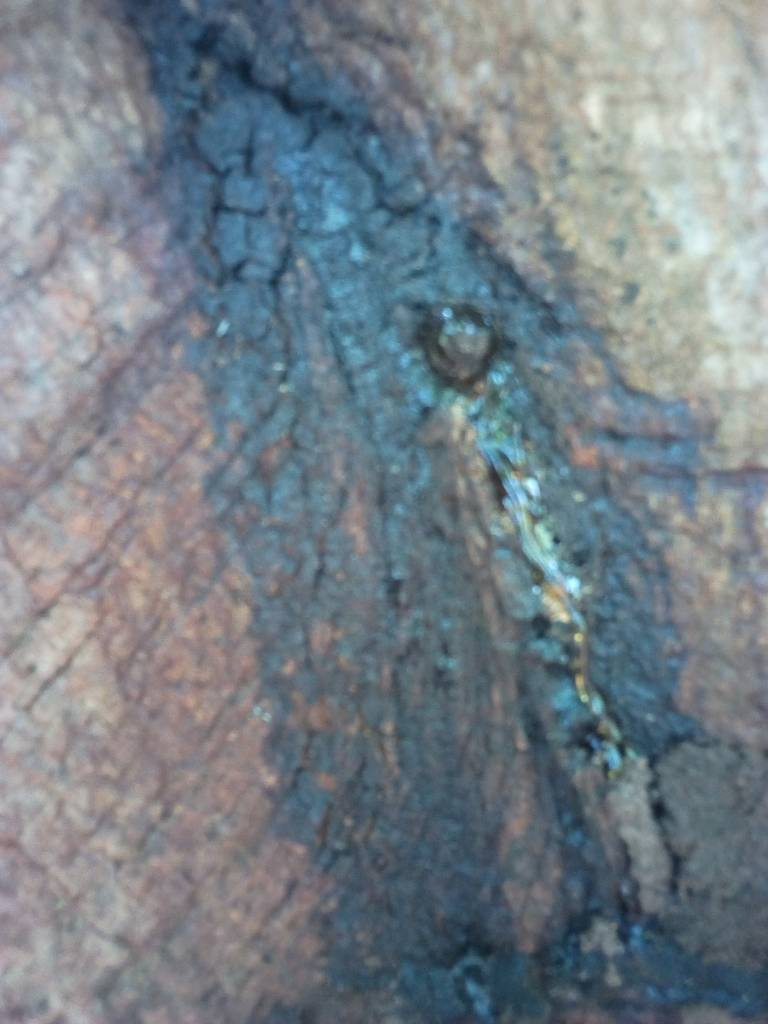Gommose: (199, 92, 757, 1016)
